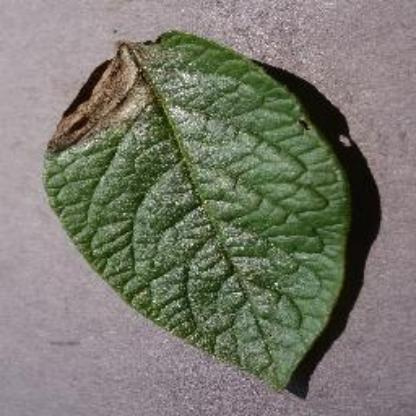Late-Blight: (34, 25, 370, 397)
